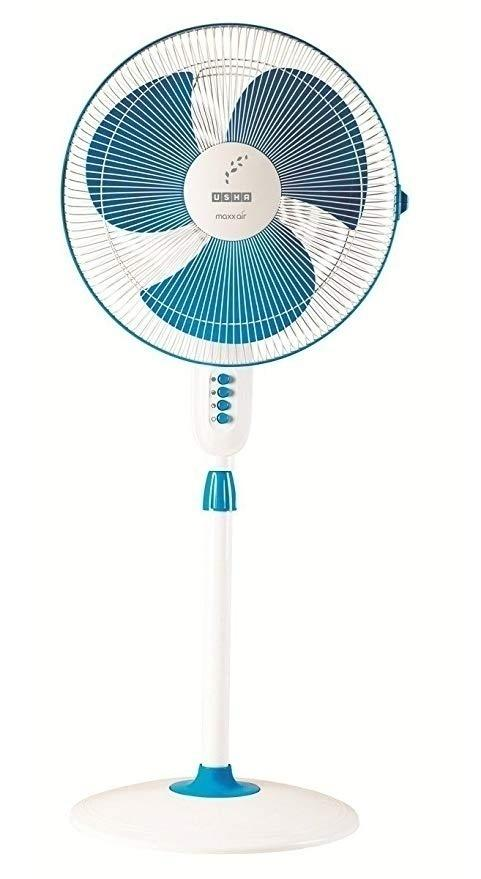fan: (58, 15, 407, 879)
